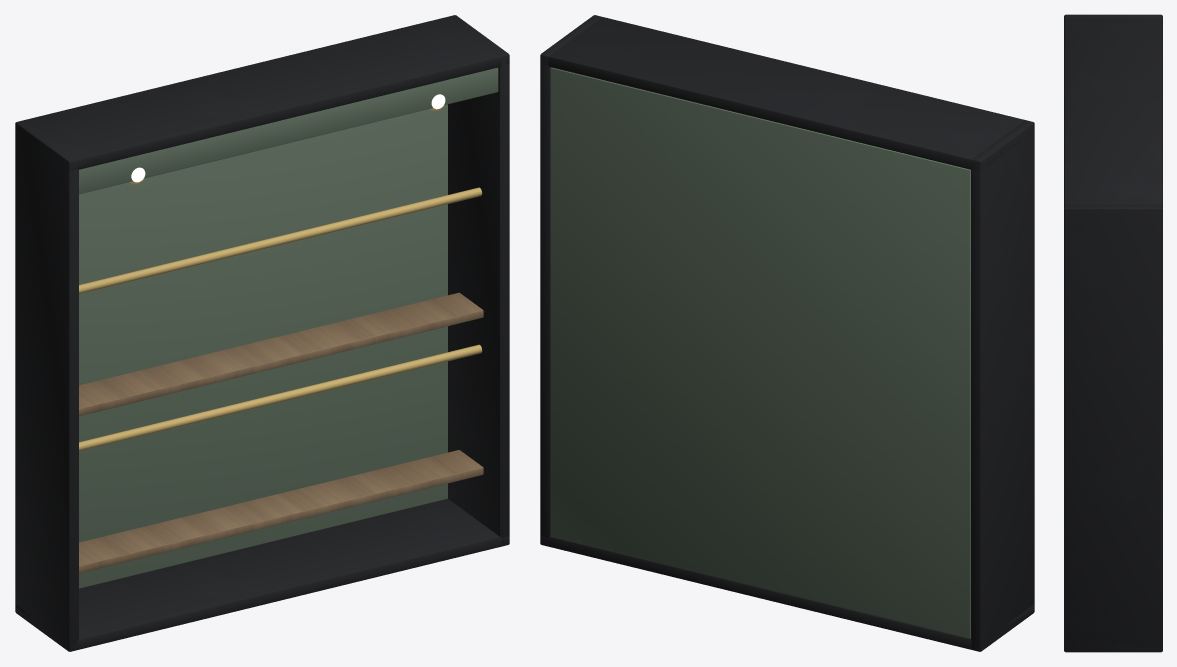
File: pf_display_golf_club_wall_t3.glb
3 views of the same model, side by side, from view 1: azimuth 30°, elevation 25°; view 2: azimuth 150°, elevation 25°; view 3: azimuth 270°, elevation 25° (orthographic). The views are drawn at different scales.
Visible parts, largest first — view 1: Case_Back, Case_Left, Case_Top, Case_Right, Case_Base, Club_Head_Tray_1, Club_Head_Tray_2, Header_Back, Club_Support_Rail_1, Club_Support_Rail_2; view 2: Case_Back, Case_Left, Case_Top, Case_Right, Case_Base; view 3: Case_Right, Case_Top, Case_Left, Case_Base.
Part boxes in pixels (x1,y1,x2,y2): Case_Back: [79, 104, 447, 588]; Case_Left: [15, 120, 78, 651]; Case_Top: [24, 17, 509, 170]; Case_Right: [448, 15, 509, 546]; Case_Base: [15, 498, 509, 651]; Club_Head_Tray_1: [79, 292, 483, 416]; Club_Head_Tray_2: [79, 450, 483, 573]; Header_Back: [79, 67, 498, 194]; Club_Support_Rail_1: [79, 187, 482, 293]; Club_Support_Rail_2: [79, 344, 482, 451]; Case_Back: [550, 67, 970, 638]; Case_Left: [971, 120, 1034, 651]; Case_Top: [541, 17, 1031, 170]; Case_Right: [540, 15, 601, 546]; Case_Base: [540, 536, 1034, 651]; Case_Right: [1064, 204, 1162, 652]; Case_Top: [1064, 18, 1162, 217]; Case_Left: [1064, 14, 1162, 18]; Case_Base: [1064, 644, 1162, 651].
Size of the model in its own units: 2.05 by 2.18 by 0.44.
6 materials, 2 textured.
